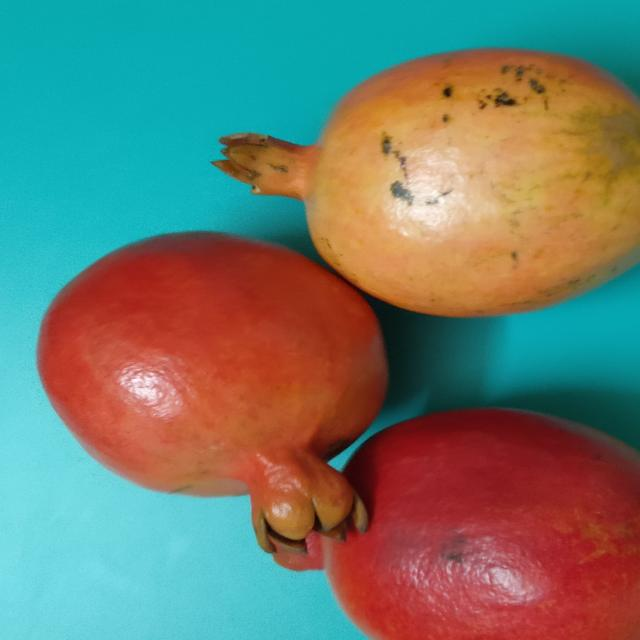Good_Pomegranate 50-60-days: (32, 43, 640, 640)
